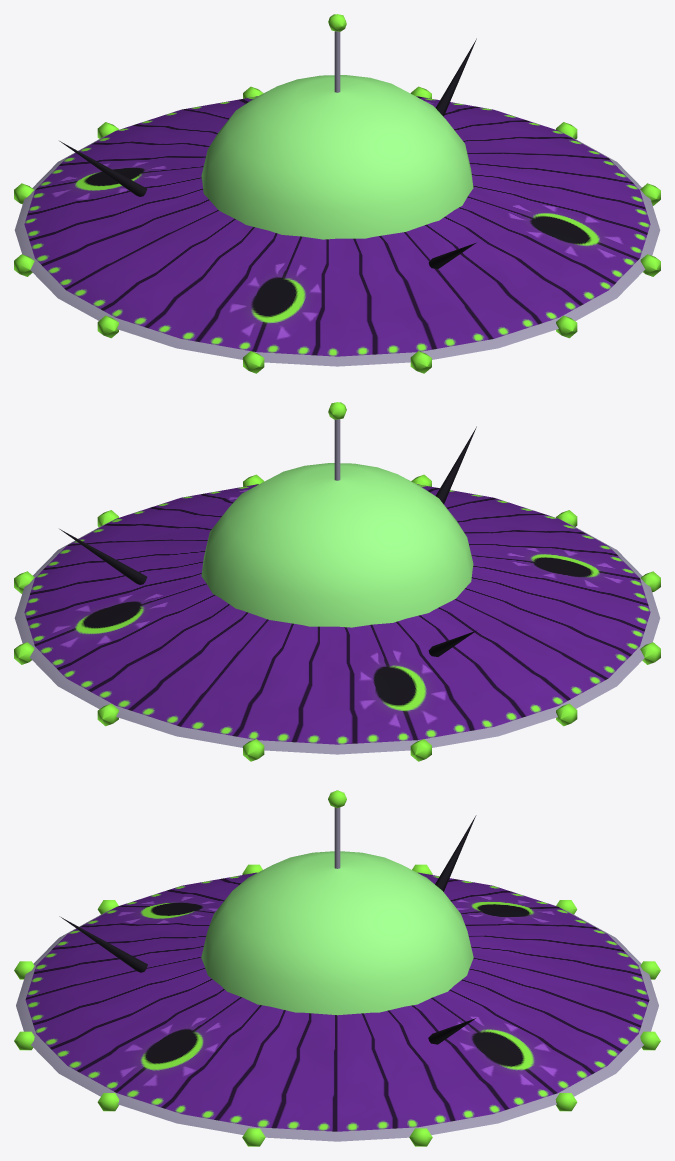
Rendered from scout_saucer.obj.
3 renders of one model, top to bottom at view 1: azimuth 30°, elevation 25°; view 2: azimuth 150°, elevation 25°; view 3: azimuth 270°, elevation 25°, orthographic.
Visible parts, largest first — view 1: disc, dome, rim_light, spike; view 2: disc, dome, rim_light, spike; view 3: disc, dome, rim_light, spike.
Boxes of the visible parts, x1,y1,x2,y2 form: disc: [14, 96, 660, 366]; dome: [201, 75, 473, 239]; rim_light: [14, 86, 660, 373]; spike: [59, 38, 476, 268]; disc: [14, 484, 660, 754]; dome: [201, 463, 473, 627]; rim_light: [14, 474, 660, 761]; spike: [59, 426, 476, 656]; disc: [16, 872, 658, 1141]; dome: [201, 851, 473, 1015]; rim_light: [14, 864, 660, 1146]; spike: [59, 815, 476, 1044].
Bounding box in the file's own units: 12 × 5.53 × 12.07.
Materials: 5 (1 with a texture image).
